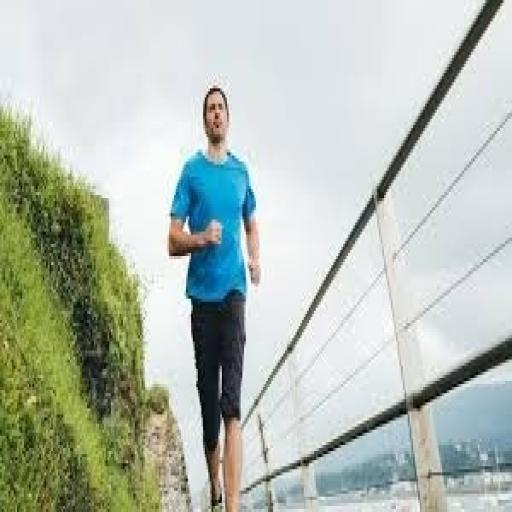running: (165, 82, 263, 509)
